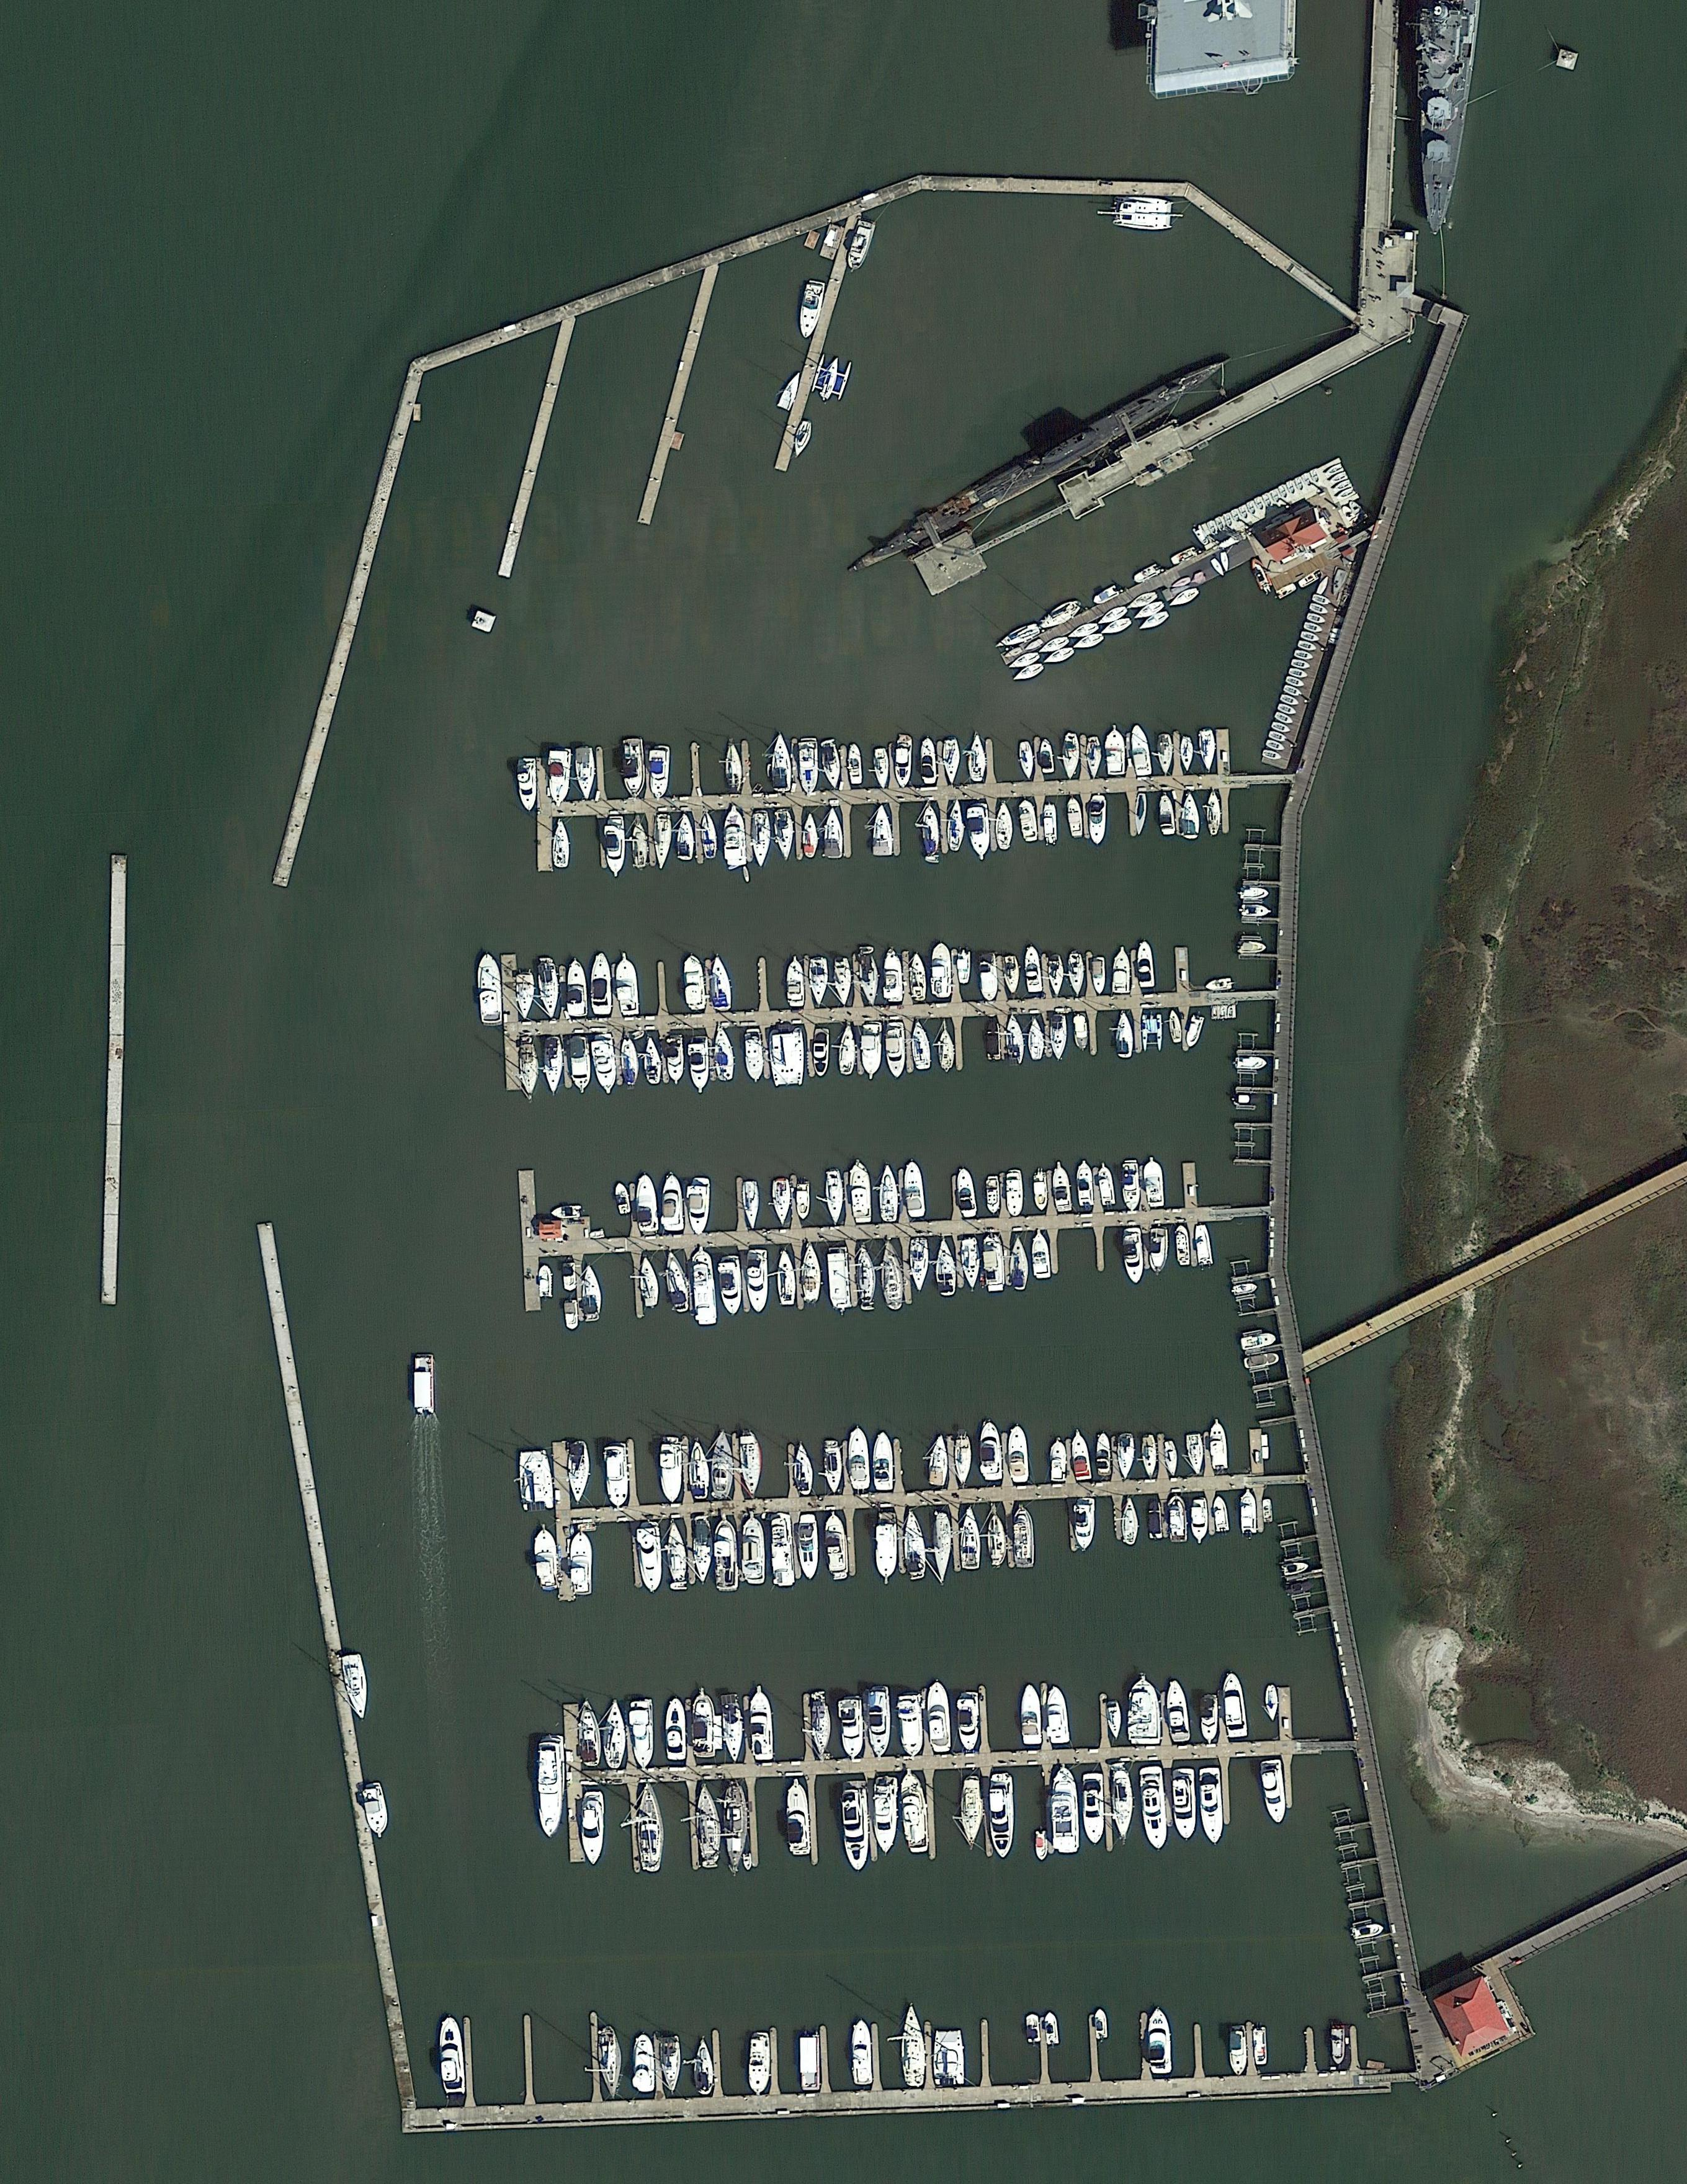harbor: (257, 1224, 420, 2101), (399, 1998, 1380, 2133), (564, 1681, 1292, 1860), (916, 321, 1370, 595), (521, 1162, 1205, 1314), (420, 174, 918, 376), (516, 730, 1233, 870), (501, 946, 1196, 1086), (1295, 308, 1467, 779), (271, 367, 425, 887), (1184, 184, 1357, 321), (771, 221, 861, 473), (491, 326, 574, 579), (636, 273, 718, 524), (1267, 840, 1301, 1268), (97, 857, 128, 1305), (934, 174, 1180, 197)
ship: (840, 349, 1240, 583), (840, 1780, 872, 1872), (1108, 193, 1177, 232), (898, 1768, 929, 1855), (1053, 1764, 1081, 1855), (340, 1649, 374, 1723), (540, 1736, 565, 1835), (695, 1782, 723, 1867), (638, 1784, 665, 1874), (517, 1451, 555, 1513), (1143, 1766, 1170, 1851), (439, 2016, 468, 2095), (769, 1029, 806, 1086), (989, 1771, 1014, 1856), (725, 1787, 750, 1872), (360, 1777, 392, 1842), (810, 354, 852, 402), (1131, 1679, 1161, 1746), (875, 1773, 898, 1858), (1200, 1768, 1224, 1846), (787, 1778, 812, 1856), (796, 280, 828, 338), (693, 1251, 718, 1325), (1223, 1672, 1249, 1741), (478, 955, 503, 1027), (1173, 1770, 1198, 1840), (845, 218, 877, 273), (638, 1525, 665, 1591), (904, 2005, 925, 2087), (1083, 1771, 1106, 1846), (693, 1686, 716, 1761), (599, 2028, 624, 2097), (613, 955, 641, 1015), (1147, 2009, 1173, 2072), (875, 1513, 898, 1585), (1035, 599, 1085, 632), (571, 1530, 595, 1598), (633, 1699, 657, 1766), (771, 1520, 796, 1587), (897, 1692, 923, 1754), (929, 1683, 952, 1754), (716, 1520, 739, 1591), (666, 1697, 691, 1762), (824, 1514, 849, 1580), (1019, 1686, 1046, 1746), (565, 1444, 592, 1504), (413, 1350, 436, 1419), (978, 1419, 1003, 1483), (1260, 1761, 1285, 1824), (748, 2032, 773, 2095), (936, 2030, 964, 2085), (751, 1693, 774, 1761), (535, 1527, 558, 1594), (723, 1695, 746, 1762), (851, 2021, 874, 2088), (960, 1778, 982, 1851), (739, 1435, 764, 1497), (604, 1444, 629, 1506), (748, 1249, 771, 1314), (661, 1438, 684, 1504), (583, 1793, 604, 1863), (992, 622, 1042, 652), (1113, 1770, 1134, 1839), (882, 1242, 904, 1311), (959, 1507, 982, 1571), (742, 1520, 766, 1584), (932, 1514, 953, 1584), (826, 1252, 852, 1307), (723, 809, 748, 868), (569, 1036, 594, 1095), (620, 739, 645, 797), (1168, 1683, 1193, 1741), (604, 1702, 626, 1770), (579, 1700, 601, 1768), (719, 1254, 742, 1316), (712, 1433, 734, 1499), (1014, 1504, 1035, 1569), (693, 1520, 714, 1585), (799, 1513, 820, 1578), (748, 809, 773, 864), (1047, 1688, 1072, 1743), (604, 815, 627, 873), (594, 1036, 617, 1095), (633, 2035, 656, 2094), (663, 1174, 686, 1233), (907, 1513, 927, 1582), (842, 1697, 863, 1759), (870, 1690, 890, 1757), (769, 735, 792, 792), (689, 1036, 712, 1093), (539, 960, 562, 1017), (799, 2035, 822, 2092), (682, 958, 707, 1010), (969, 804, 992, 859), (592, 956, 613, 1015), (668, 1522, 689, 1580), (638, 1174, 659, 1233), (668, 1254, 689, 1313), (801, 1245, 822, 1304), (936, 1240, 957, 1298), (851, 1428, 870, 1491), (1131, 724, 1154, 778), (774, 809, 797, 863), (797, 739, 820, 792), (886, 1020, 907, 1077), (711, 956, 732, 1013), (1008, 1426, 1030, 1483), (661, 2037, 682, 2094), (1123, 1228, 1145, 1284), (569, 958, 588, 1018), (519, 1038, 539, 1098), (852, 1162, 872, 1222), (882, 949, 904, 1004), (861, 1024, 882, 1079), (517, 758, 539, 813), (549, 747, 571, 802), (906, 1164, 927, 1219), (689, 1178, 711, 1233), (826, 1169, 847, 1224), (776, 370, 805, 411), (927, 1435, 950, 1484), (1143, 1158, 1166, 1208), (1120, 1160, 1143, 1210), (985, 1235, 1005, 1293), (714, 1029, 735, 1082), (1074, 1499, 1095, 1552), (689, 1442, 709, 1499), (856, 1249, 875, 1305), (822, 1438, 842, 1495), (785, 958, 806, 1010), (1228, 2025, 1249, 2076), (794, 1444, 815, 1495), (789, 418, 815, 459), (959, 1693, 978, 1748), (778, 1251, 797, 1305), (875, 1431, 893, 1491), (989, 1509, 1007, 1569), (1024, 944, 1046, 994), (957, 1169, 978, 1219), (576, 747, 595, 801), (1104, 728, 1125, 776), (640, 1259, 661, 1307), (1031, 1231, 1053, 1279), (544, 1038, 562, 1095), (881, 1164, 898, 1220), (654, 815, 673, 866), (631, 818, 650, 870), (1007, 1015, 1026, 1066), (744, 1031, 764, 1082), (1010, 1240, 1030, 1291), (1072, 1429, 1092, 1481), (1248, 556, 1274, 593), (1060, 733, 1081, 779), (934, 942, 952, 997), (696, 2041, 714, 2095), (583, 1268, 601, 1323), (650, 746, 670, 795), (1017, 801, 1038, 845), (976, 955, 998, 999), (1131, 597, 1166, 623), (812, 1699, 829, 1752), (911, 1240, 929, 1293), (801, 811, 820, 859), (725, 744, 744, 792), (810, 958, 829, 1006), (1113, 948, 1132, 995), (1090, 797, 1109, 845), (822, 740, 842, 788), (941, 739, 960, 786), (742, 1181, 762, 1229), (946, 801, 964, 852), (923, 808, 941, 859), (826, 809, 843, 861), (838, 1026, 856, 1077), (962, 1240, 980, 1291), (1210, 1421, 1228, 1472), (859, 956, 879, 1003), (1138, 942, 1157, 988), (1053, 1166, 1072, 1212), (773, 1180, 792, 1226), (1168, 1499, 1187, 1545), (1138, 608, 1171, 634), (553, 818, 571, 868), (1095, 604, 1131, 629), (833, 960, 852, 1004), (1005, 1171, 1024, 1215), (1194, 1224, 1214, 1268), (1184, 792, 1201, 840), (909, 953, 927, 1001), (895, 737, 913, 785), (1200, 1695, 1217, 1743), (1049, 1015, 1069, 1057), (1198, 728, 1217, 771), (813, 1027, 829, 1079), (996, 804, 1014, 850), (968, 735, 985, 781), (645, 1038, 663, 1084), (1116, 1013, 1134, 1059), (1150, 1228, 1168, 1274), (1051, 1438, 1069, 1484), (1155, 733, 1175, 774), (622, 1036, 638, 1086), (1044, 645, 1076, 670), (1038, 632, 1070, 657), (1168, 586, 1200, 611), (1240, 1490, 1256, 1539), (516, 972, 533, 1017), (1014, 662, 1047, 685), (1072, 632, 1106, 655), (679, 815, 695, 863), (875, 808, 891, 856), (1122, 1499, 1138, 1546), (1099, 1167, 1118, 1206), (1141, 1015, 1162, 1050), (1205, 792, 1223, 834), (872, 746, 890, 788), (1077, 1164, 1095, 1206), (702, 813, 718, 859), (1030, 1017, 1046, 1063), (1125, 590, 1157, 613), (1102, 615, 1134, 638), (955, 1437, 971, 1483), (1240, 1332, 1278, 1351), (847, 744, 865, 785), (1017, 740, 1035, 781), (1350, 1920, 1384, 1941), (1086, 735, 1102, 779), (1191, 1500, 1207, 1545), (668, 1036, 682, 1086), (1159, 795, 1177, 834), (1003, 956, 1021, 995), (985, 1176, 1003, 1215), (1033, 1171, 1051, 1210), (1187, 1435, 1205, 1474), (1069, 955, 1085, 997), (1008, 650, 1040, 671), (1147, 1500, 1162, 1543), (1141, 1437, 1157, 1479), (1118, 1435, 1134, 1477), (1038, 737, 1056, 774), (1244, 1351, 1281, 1369), (613, 1183, 633, 1217), (985, 1022, 1001, 1063), (1214, 1495, 1230, 1536), (1170, 546, 1200, 567), (1097, 1433, 1111, 1477), (1069, 801, 1085, 840), (1186, 1015, 1205, 1047), (1180, 733, 1196, 772), (1106, 1702, 1122, 1741), (1253, 2026, 1269, 2065), (1175, 1228, 1191, 1266), (1044, 802, 1058, 845), (1134, 792, 1148, 834), (1132, 563, 1161, 585), (1069, 622, 1099, 641), (1049, 955, 1063, 995), (1092, 585, 1118, 606), (1046, 2012, 1061, 2048), (562, 1261, 579, 1293), (1333, 2026, 1347, 2065), (797, 1181, 812, 1220), (1164, 1442, 1180, 1475), (564, 1298, 579, 1330), (1287, 1580, 1315, 1598), (1209, 556, 1228, 581), (1024, 2014, 1040, 2044), (1239, 905, 1272, 919), (1074, 1015, 1088, 1049), (1235, 1056, 1269, 1070), (1035, 1830, 1049, 1863), (1265, 1686, 1279, 1720), (1093, 956, 1106, 994), (1095, 2009, 1109, 2041), (1191, 524, 1210, 547), (1240, 886, 1271, 900), (959, 949, 971, 983), (1170, 1011, 1182, 1045), (1235, 941, 1267, 953), (1283, 1561, 1308, 1576), (540, 1266, 553, 1297), (1233, 1281, 1256, 1297), (1207, 978, 1232, 992), (553, 1206, 581, 1219), (1276, 583, 1297, 599), (1297, 572, 1318, 588), (1272, 710, 1294, 726), (1276, 701, 1297, 717), (1003, 645, 1024, 661), (1171, 574, 1193, 590), (1271, 721, 1294, 735), (1267, 730, 1290, 744), (1260, 747, 1283, 762), (1340, 505, 1357, 523), (1279, 693, 1299, 709), (1262, 1499, 1274, 1523), (1301, 631, 1322, 645), (1294, 648, 1315, 662), (1285, 675, 1306, 689), (1265, 739, 1287, 753), (1310, 602, 1329, 616), (1292, 657, 1311, 671), (1288, 666, 1308, 680), (1283, 684, 1302, 698), (1024, 638, 1044, 652), (1297, 639, 1318, 652), (1336, 487, 1354, 501), (1304, 620, 1322, 634), (1326, 462, 1343, 476), (1214, 515, 1228, 533), (1237, 503, 1251, 521), (1260, 492, 1274, 508), (1308, 613, 1326, 625), (1334, 478, 1352, 491), (1311, 593, 1329, 606), (1331, 471, 1349, 484), (1219, 553, 1232, 570), (670, 1580, 688, 1592), (742, 1853, 753, 1872), (1349, 501, 1363, 515), (1310, 468, 1322, 484), (1223, 512, 1235, 528), (1207, 519, 1219, 535), (1246, 500, 1258, 515), (1285, 480, 1297, 496), (1230, 508, 1242, 523), (1301, 473, 1313, 487), (1269, 489, 1281, 503), (1278, 485, 1290, 500), (741, 870, 751, 884), (1255, 496, 1265, 510), (1294, 476, 1304, 491), (590, 1229, 604, 1240), (1219, 1006, 1228, 1018), (1210, 1008, 1219, 1018), (1228, 1006, 1233, 1018)
